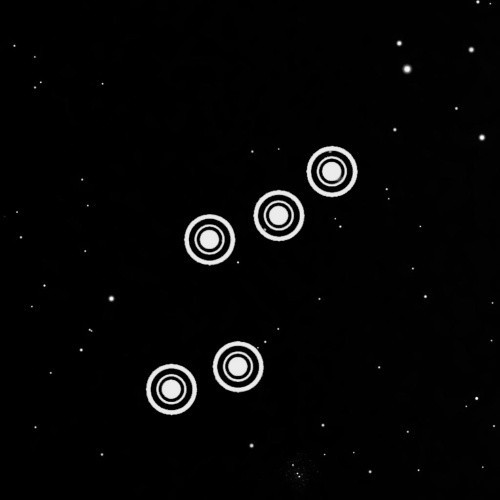lyra: (137, 126, 377, 429)
